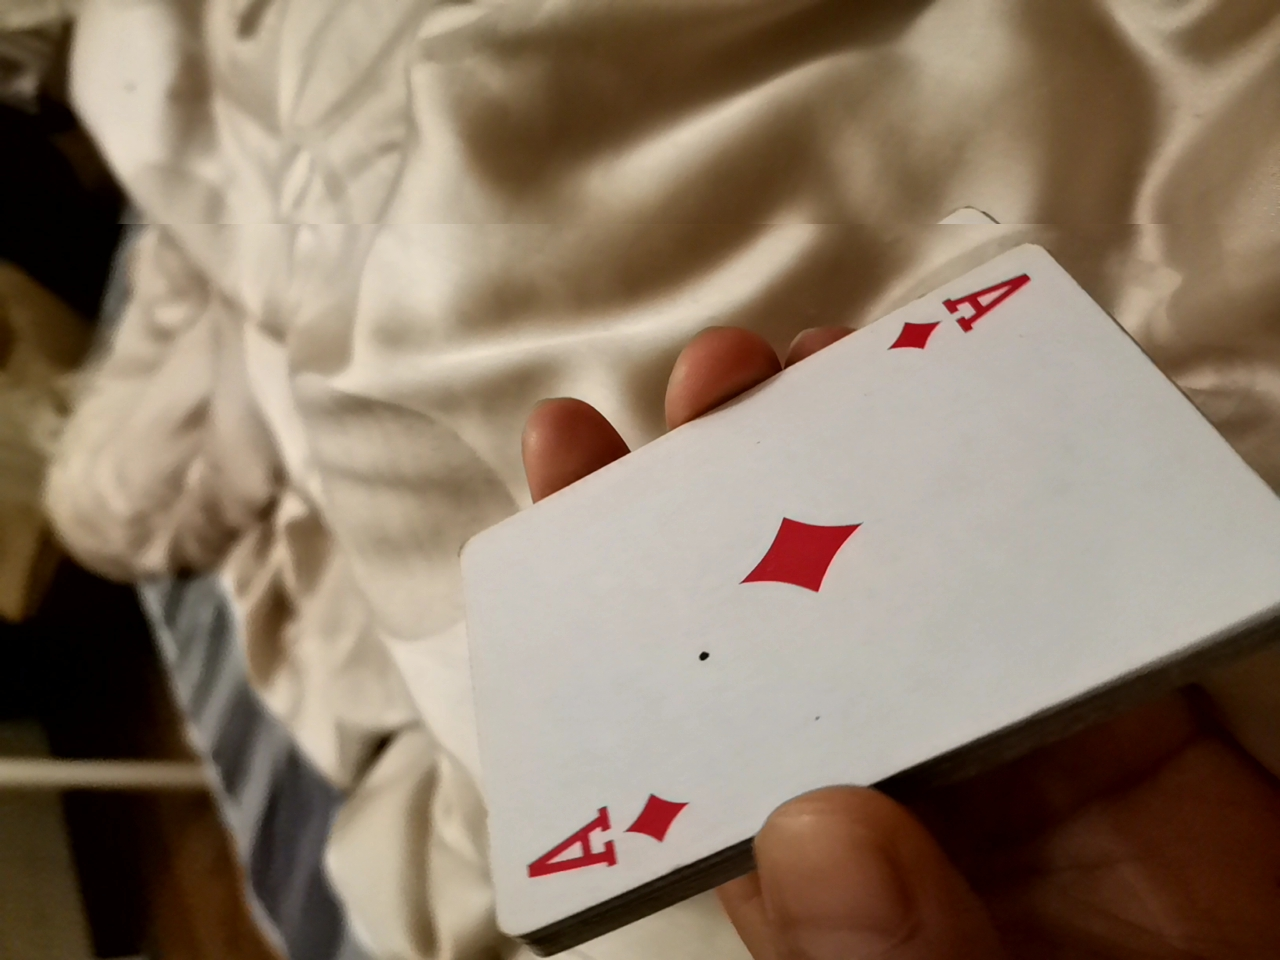fk a: (367, 215, 1262, 939)
